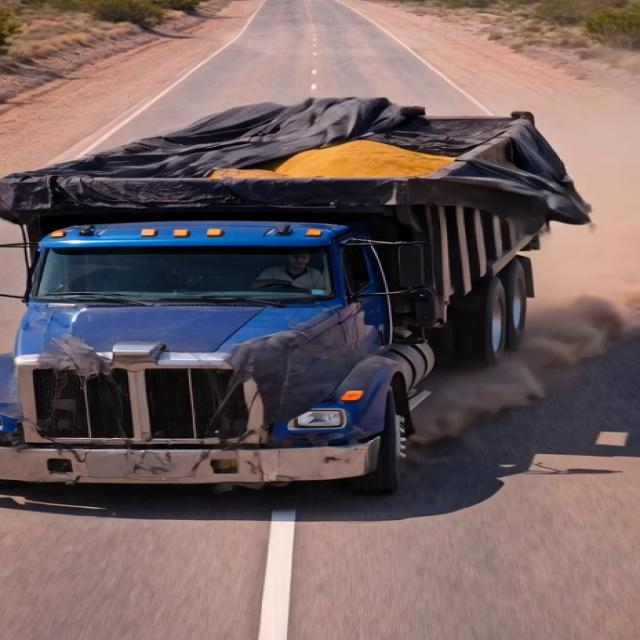trailer: (8, 100, 598, 233)
truck: (2, 67, 628, 496)
